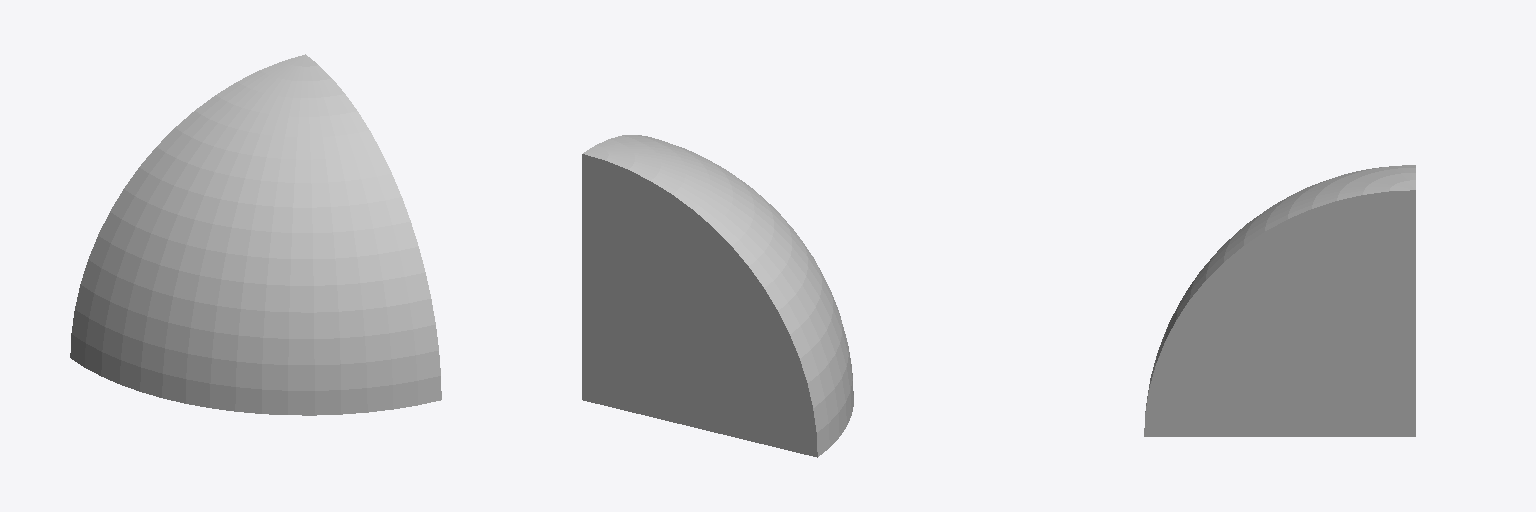
The model's file is octTex.obj.
The picture shows the model from 3 angles: view 1: azimuth 30°, elevation 25°; view 2: azimuth 150°, elevation 25°; view 3: azimuth 270°, elevation 25°; orthographic projection.
Size of the model in its own units: 2 by 2 by 2.